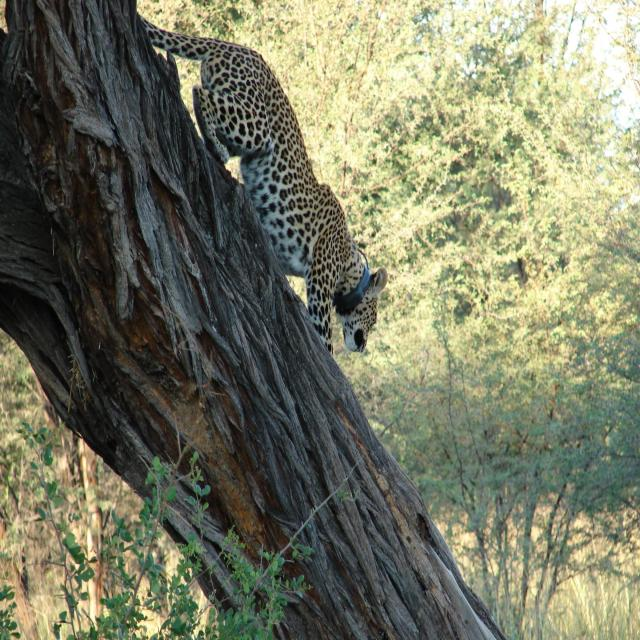Leopard: (107, 0, 417, 404)
